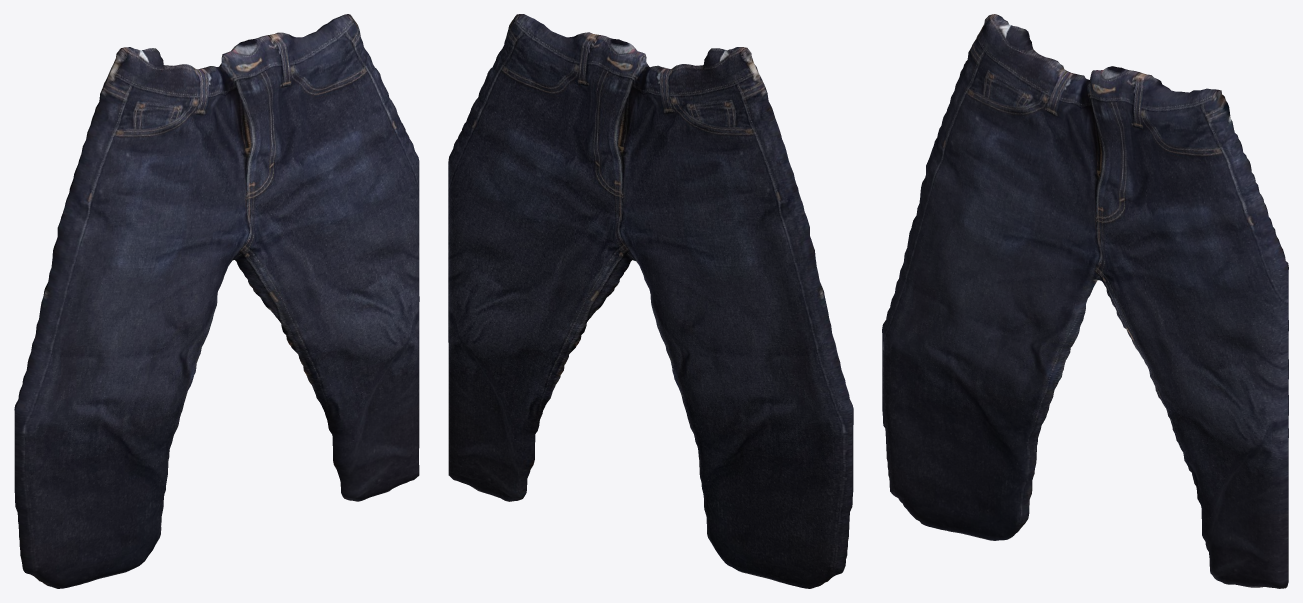
The model's file is uncle-jeans.glb.
The picture shows the model from 3 angles, left to right: view 1: azimuth 30°, elevation 25°; view 2: azimuth 150°, elevation 25°; view 3: azimuth 330°, elevation 25°; orthographic projection.
Parts seen in each view (by area): view 1: uncle-jeans; view 2: uncle-jeans; view 3: uncle-jeans.
Boxes of the visible parts, box(x1,y1,x2,y2) form: uncle-jeans: box(14, 14, 419, 588); uncle-jeans: box(448, 14, 853, 588); uncle-jeans: box(882, 14, 1288, 588).
Bounding box in the file's own units: 0.7954 × 0.9901 × 0.0715.
Materials: 1 (1 with a texture image).
